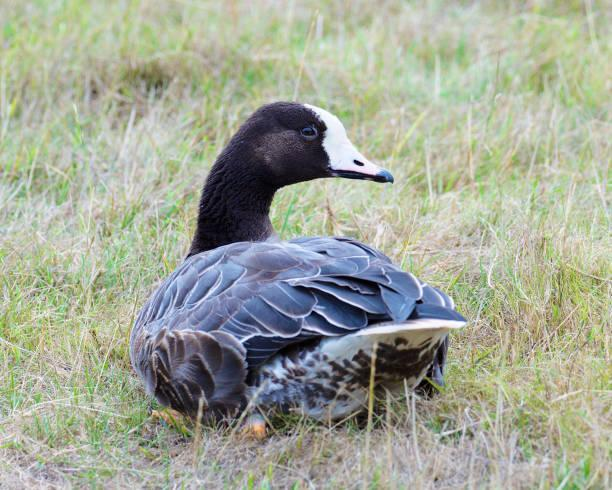Canadian-Goose: (127, 101, 463, 428)
